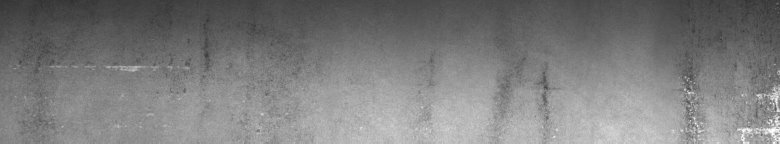hc: (679, 20, 776, 136)
